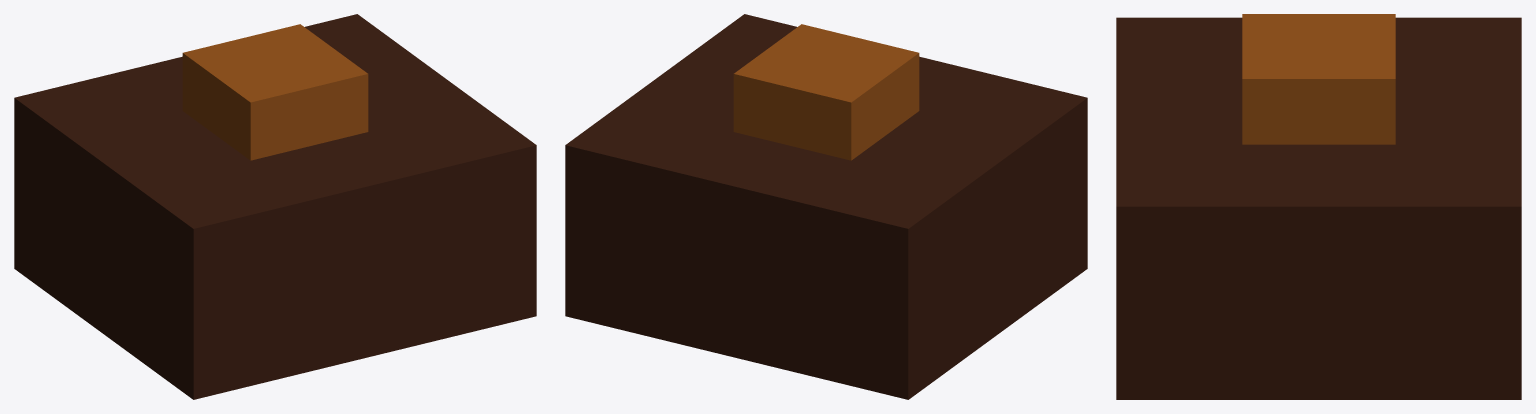
Rendered from storage_crate.obj.
3 views of the same model, side by side, from view 1: azimuth 30°, elevation 25°; view 2: azimuth 150°, elevation 25°; view 3: azimuth 270°, elevation 25° (orthographic). The views are drawn at different scales.
Parts seen in each view (by area): view 1: dark_wood, component; view 2: dark_wood, component; view 3: dark_wood, component.
Part boxes in pixels (<box>): dark_wood: <box>14,14,536,399</box>; component: <box>182,24,368,160</box>; dark_wood: <box>565,14,1087,399</box>; component: <box>733,24,919,160</box>; dark_wood: <box>1116,17,1521,399</box>; component: <box>1242,14,1395,144</box>.
Bounding box in the file's own units: 1.05 × 0.67 × 0.95.
